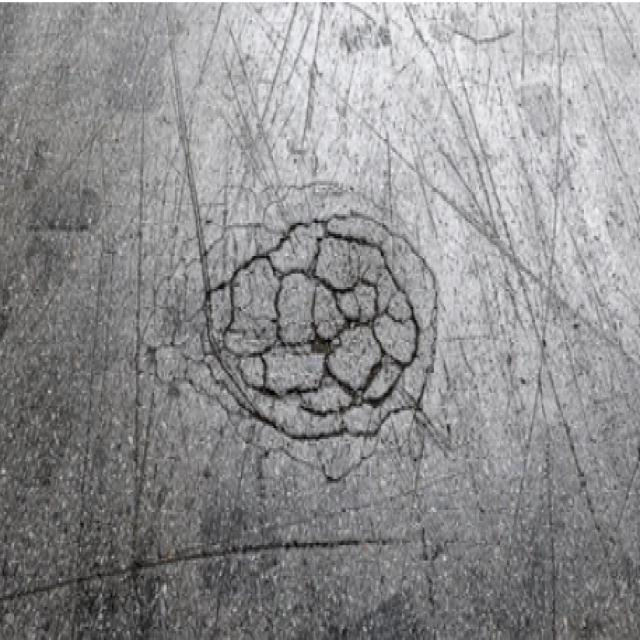network cracks: (162, 206, 443, 486)
